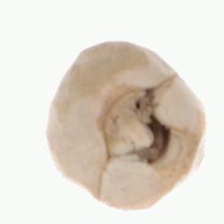L3: (93, 84, 174, 170)
L4: (47, 40, 208, 210)
